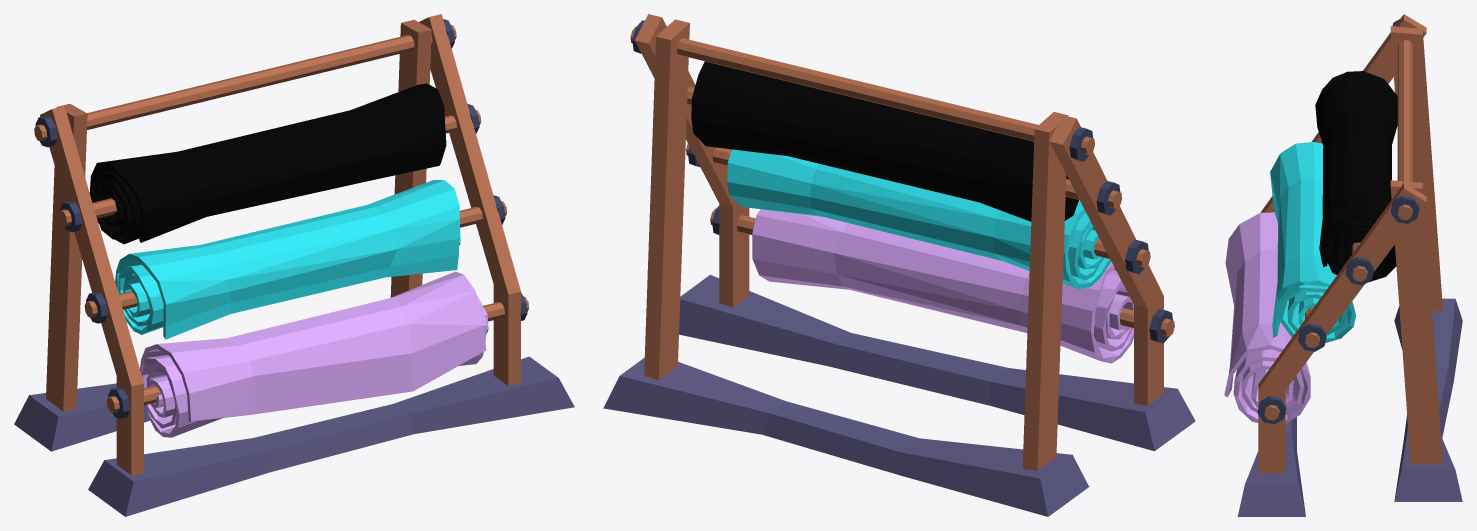
The model's file is Cloth Stander 01.fbx.
3 views of the same model, side by side, from view 1: azimuth 30°, elevation 25°; view 2: azimuth 150°, elevation 25°; view 3: azimuth 270°, elevation 25° (orthographic). The views are drawn at different scales.
Visible parts, largest first — view 1: Cloth Stander 01; view 2: Cloth Stander 01; view 3: Cloth Stander 01.
Part boxes in pixels (x1,y1,x2,y2): Cloth Stander 01: (14,14,574,516); Cloth Stander 01: (603,14,1195,516); Cloth Stander 01: (1224,14,1462,516).
Bounding box in the file's own units: 231 × 166 × 116.
